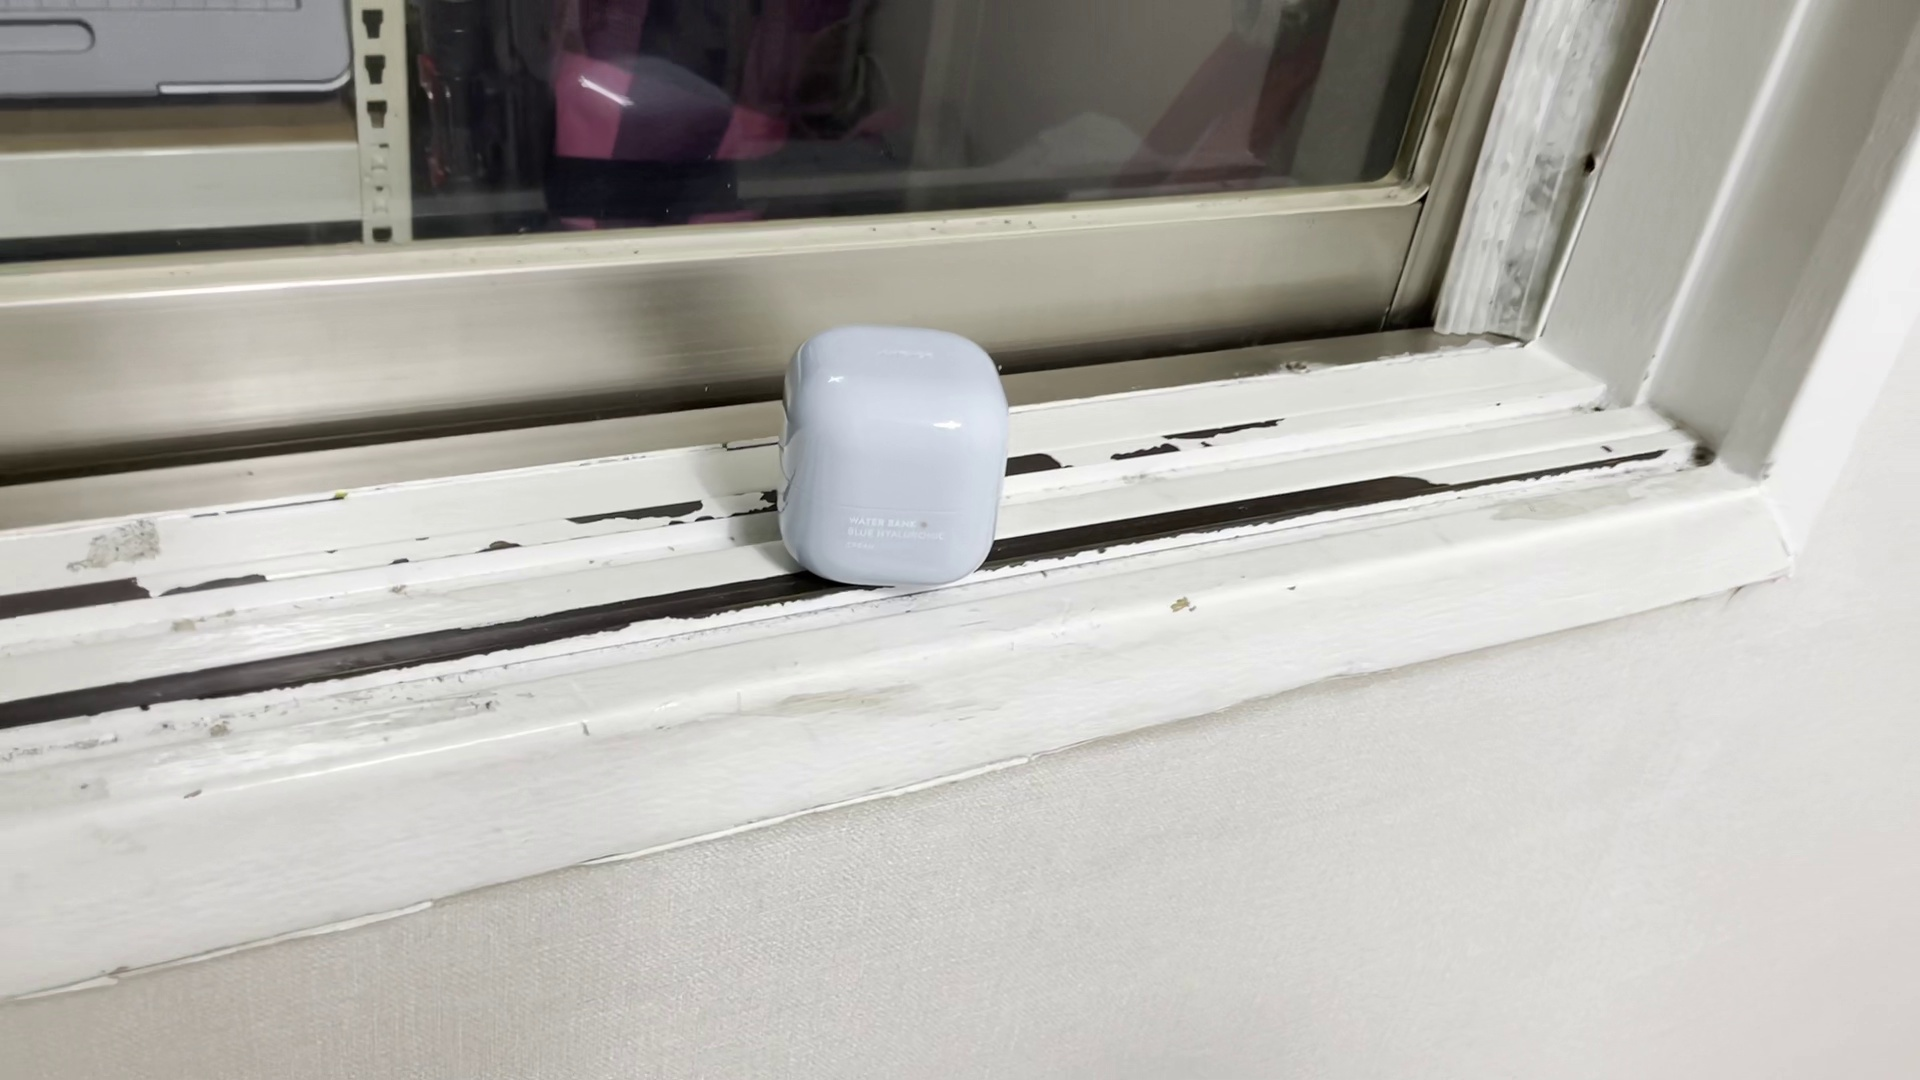cream: (783, 324, 1001, 589)
